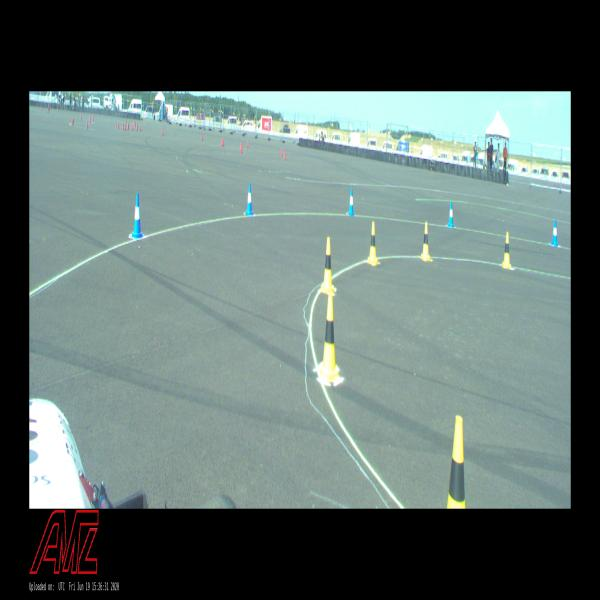blue_cone: (132, 192, 143, 238), (246, 183, 253, 215), (552, 220, 558, 246), (348, 189, 354, 215), (448, 202, 454, 228)
unknown_cone: (241, 144, 243, 154), (284, 150, 286, 160), (72, 116, 74, 125), (86, 121, 88, 129), (127, 122, 129, 130), (221, 138, 223, 146), (124, 124, 126, 131), (136, 124, 138, 131), (48, 104, 50, 110), (92, 116, 94, 122), (202, 133, 203, 142), (240, 142, 241, 151), (281, 148, 282, 157), (123, 122, 124, 130), (162, 128, 163, 136), (223, 138, 224, 146), (247, 140, 248, 148), (81, 113, 82, 120), (116, 121, 117, 128), (118, 122, 119, 129), (126, 118, 127, 124), (132, 124, 133, 130), (135, 120, 136, 126), (140, 125, 141, 131), (48, 107, 49, 112), (94, 112, 95, 117), (57, 107, 58, 111), (41, 105, 42, 109), (90, 116, 90, 122), (134, 120, 134, 125)
yellow_cone: (447, 415, 465, 508), (320, 294, 338, 382), (321, 238, 334, 294), (366, 222, 378, 265), (420, 222, 431, 261), (501, 232, 511, 269)
